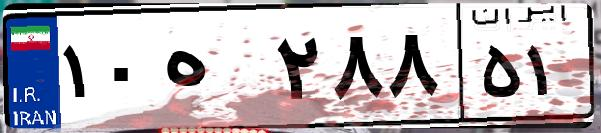0: (110, 28, 158, 98)
1: (57, 26, 110, 100), (525, 38, 570, 115)
2: (270, 28, 330, 110)
5: (475, 38, 525, 113)
8: (385, 28, 445, 110), (330, 28, 385, 110)
ه: (158, 20, 270, 120)
